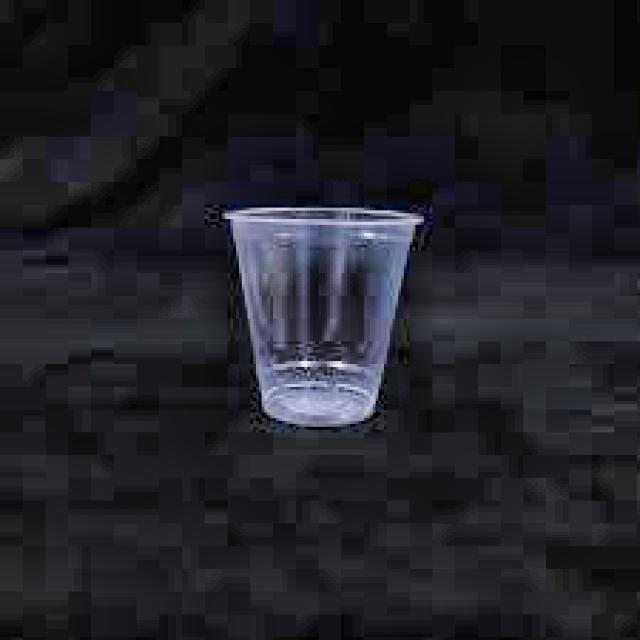plastic cup: (226, 213, 417, 427)
